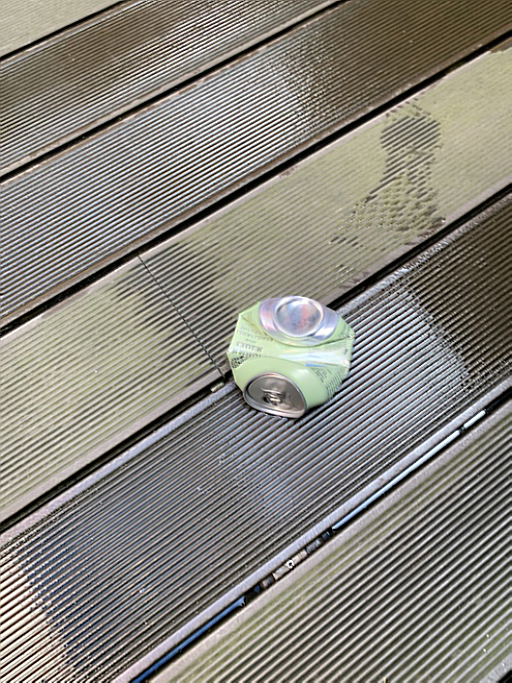can_s: (227, 292, 354, 420)
